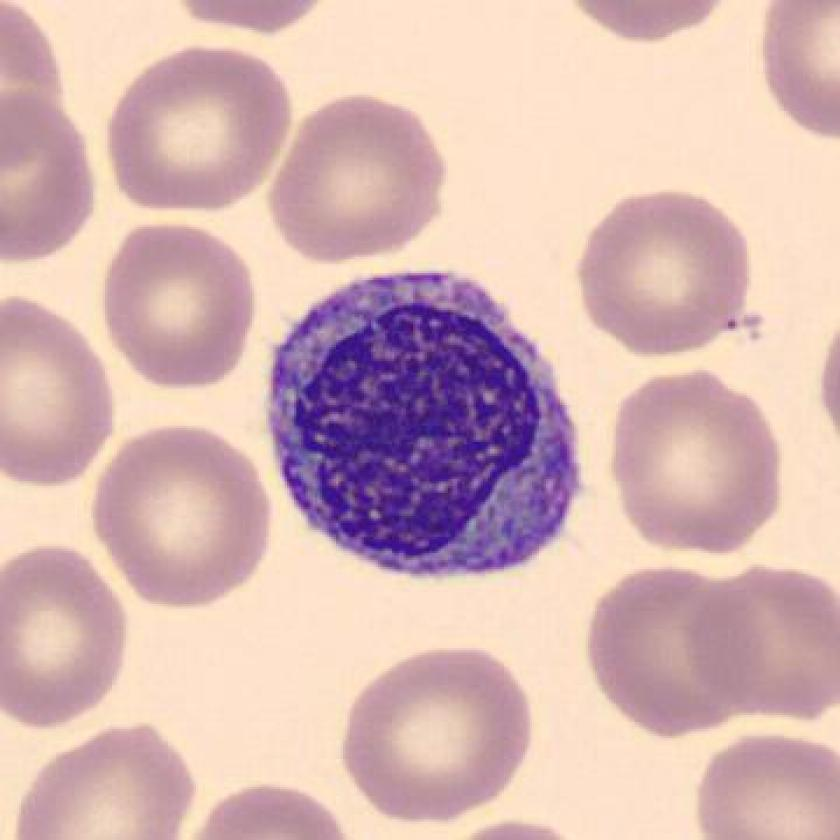monocyte: (246, 251, 603, 598)
